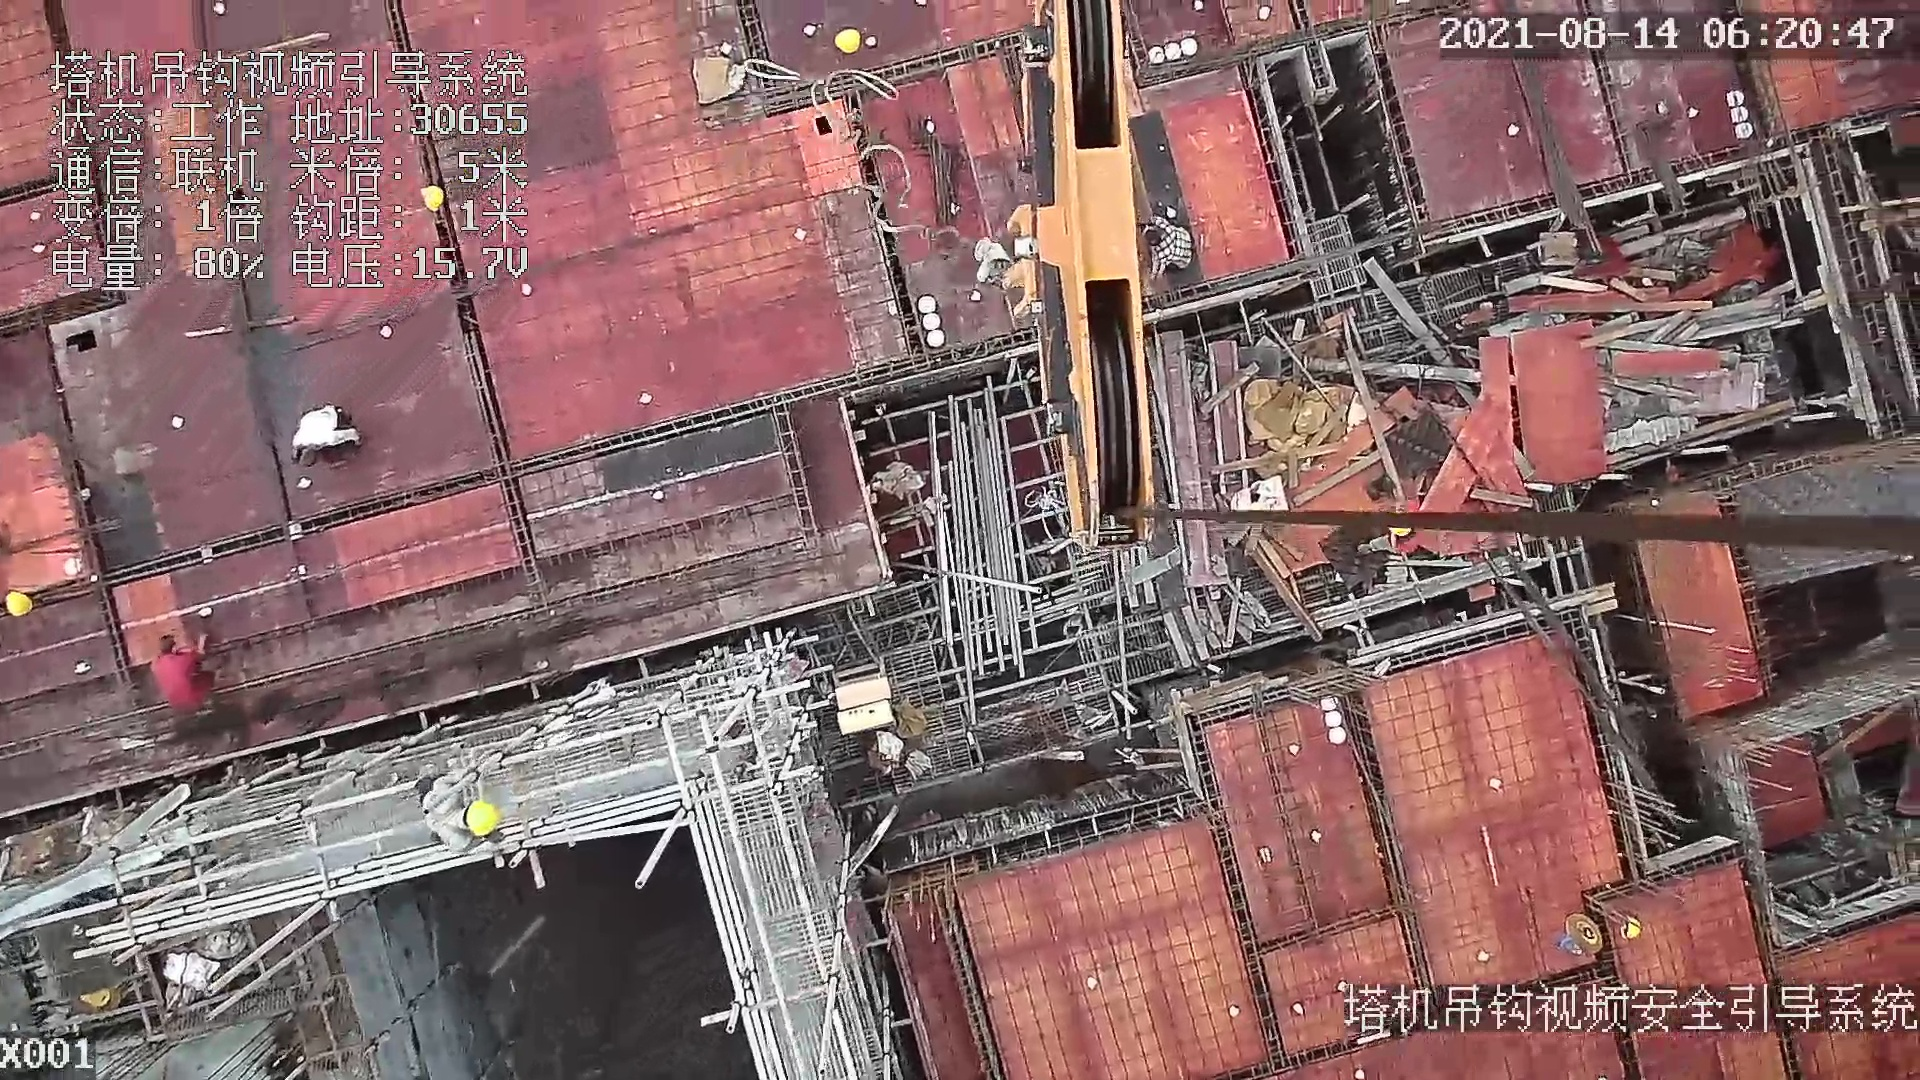helmet: (468, 800, 496, 837), (833, 27, 862, 55), (5, 591, 32, 617), (420, 184, 444, 212), (1622, 915, 1642, 941)
hook: (981, 4, 1163, 553)
person: (420, 780, 508, 858), (152, 631, 216, 718), (289, 403, 365, 470), (1144, 215, 1194, 281)
